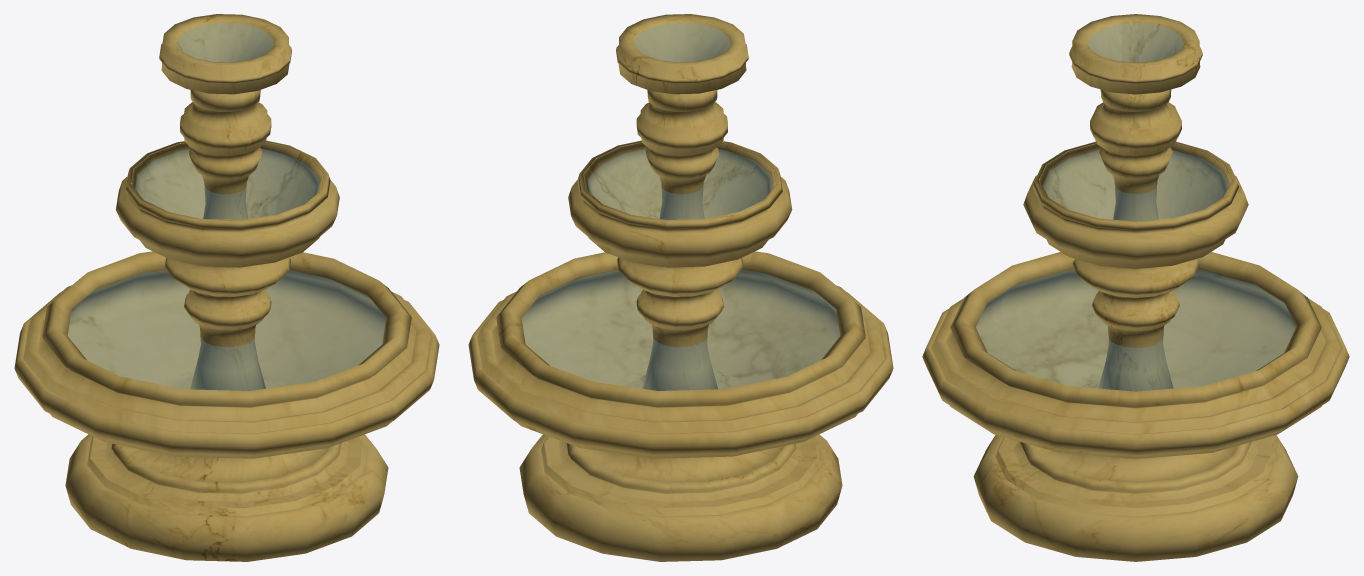
File: Fountain.glb
3 renders of one model, left to right at view 1: azimuth 30°, elevation 25°; view 2: azimuth 150°, elevation 25°; view 3: azimuth 270°, elevation 25°, orthographic.
Visible parts, largest first — view 1: Fountain 1; view 2: Fountain 1; view 3: Fountain 1.
Boxes of the visible parts, x1,y1,x2,y2 form: Fountain 1: (14, 14, 439, 561); Fountain 1: (468, 14, 893, 561); Fountain 1: (922, 14, 1349, 561).
Bounding box in the file's own units: 24.99 × 29.3 × 24.99.
2 materials, 1 textured.
